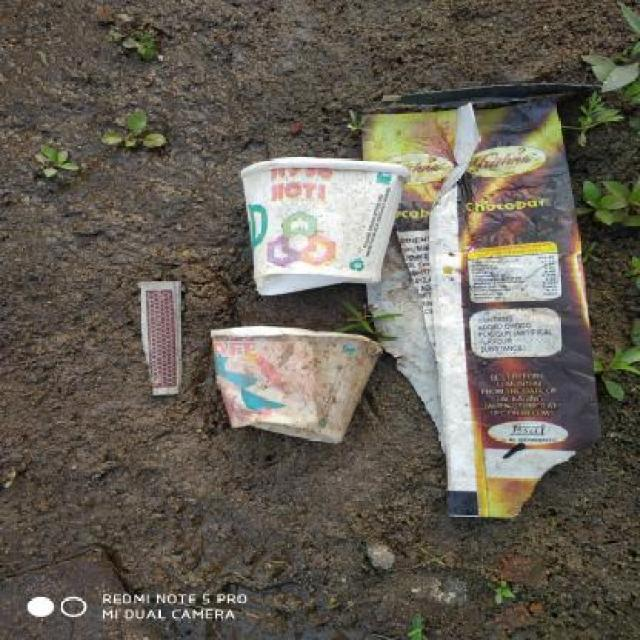garbage: (95, 62, 622, 550)
